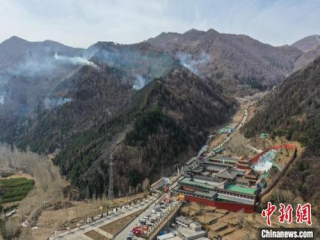smoke: (53, 45, 119, 84), (171, 48, 220, 79), (30, 95, 76, 109), (132, 70, 149, 92)
